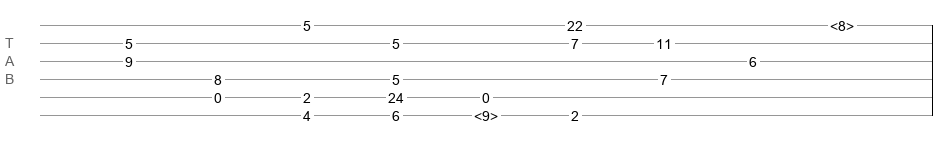0: (214, 90, 222, 100), (482, 90, 490, 100)
11: (656, 36, 672, 46)
2: (303, 90, 311, 100), (571, 108, 579, 118)
22: (567, 18, 583, 28)
24: (388, 90, 404, 100)
4: (303, 108, 311, 118)
5: (125, 36, 133, 46), (303, 18, 311, 28), (392, 36, 400, 46), (392, 72, 400, 82)
6: (392, 108, 400, 118), (749, 54, 757, 64)
7: (571, 36, 579, 46), (660, 72, 668, 82)
8: (214, 72, 222, 82)
9: (125, 54, 133, 64)
harmonic: (474, 108, 498, 118), (830, 18, 854, 28)
